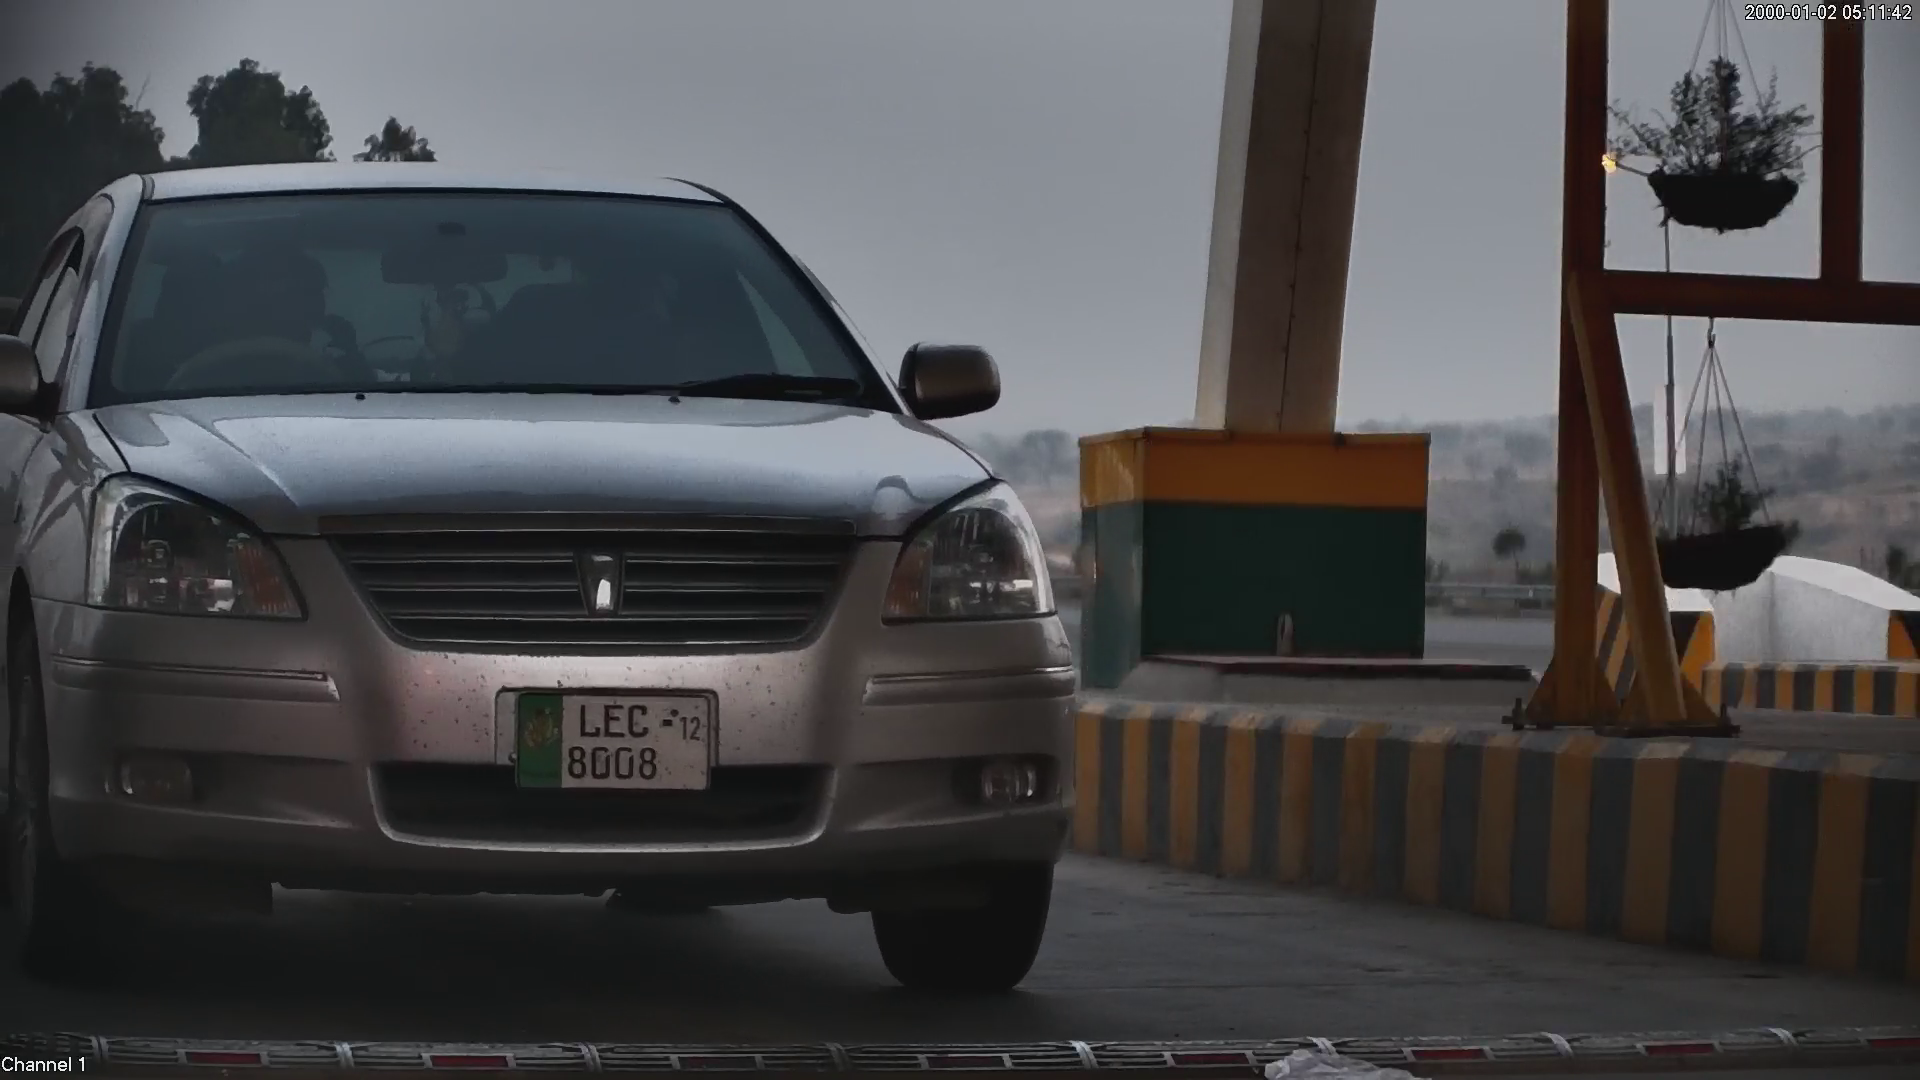Number_Plate: (505, 679, 726, 802)
